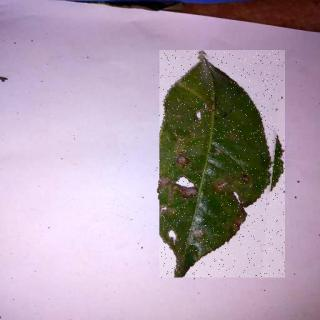Anthracnose: (160, 51, 286, 279)
